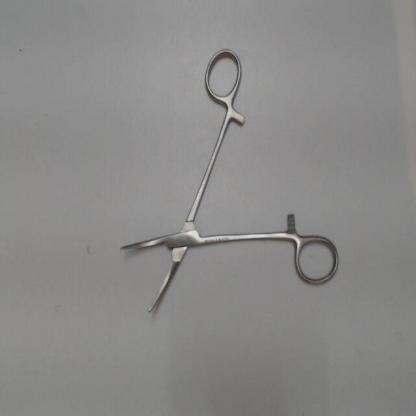Crile Artery Forceps: (115, 43, 346, 328)
